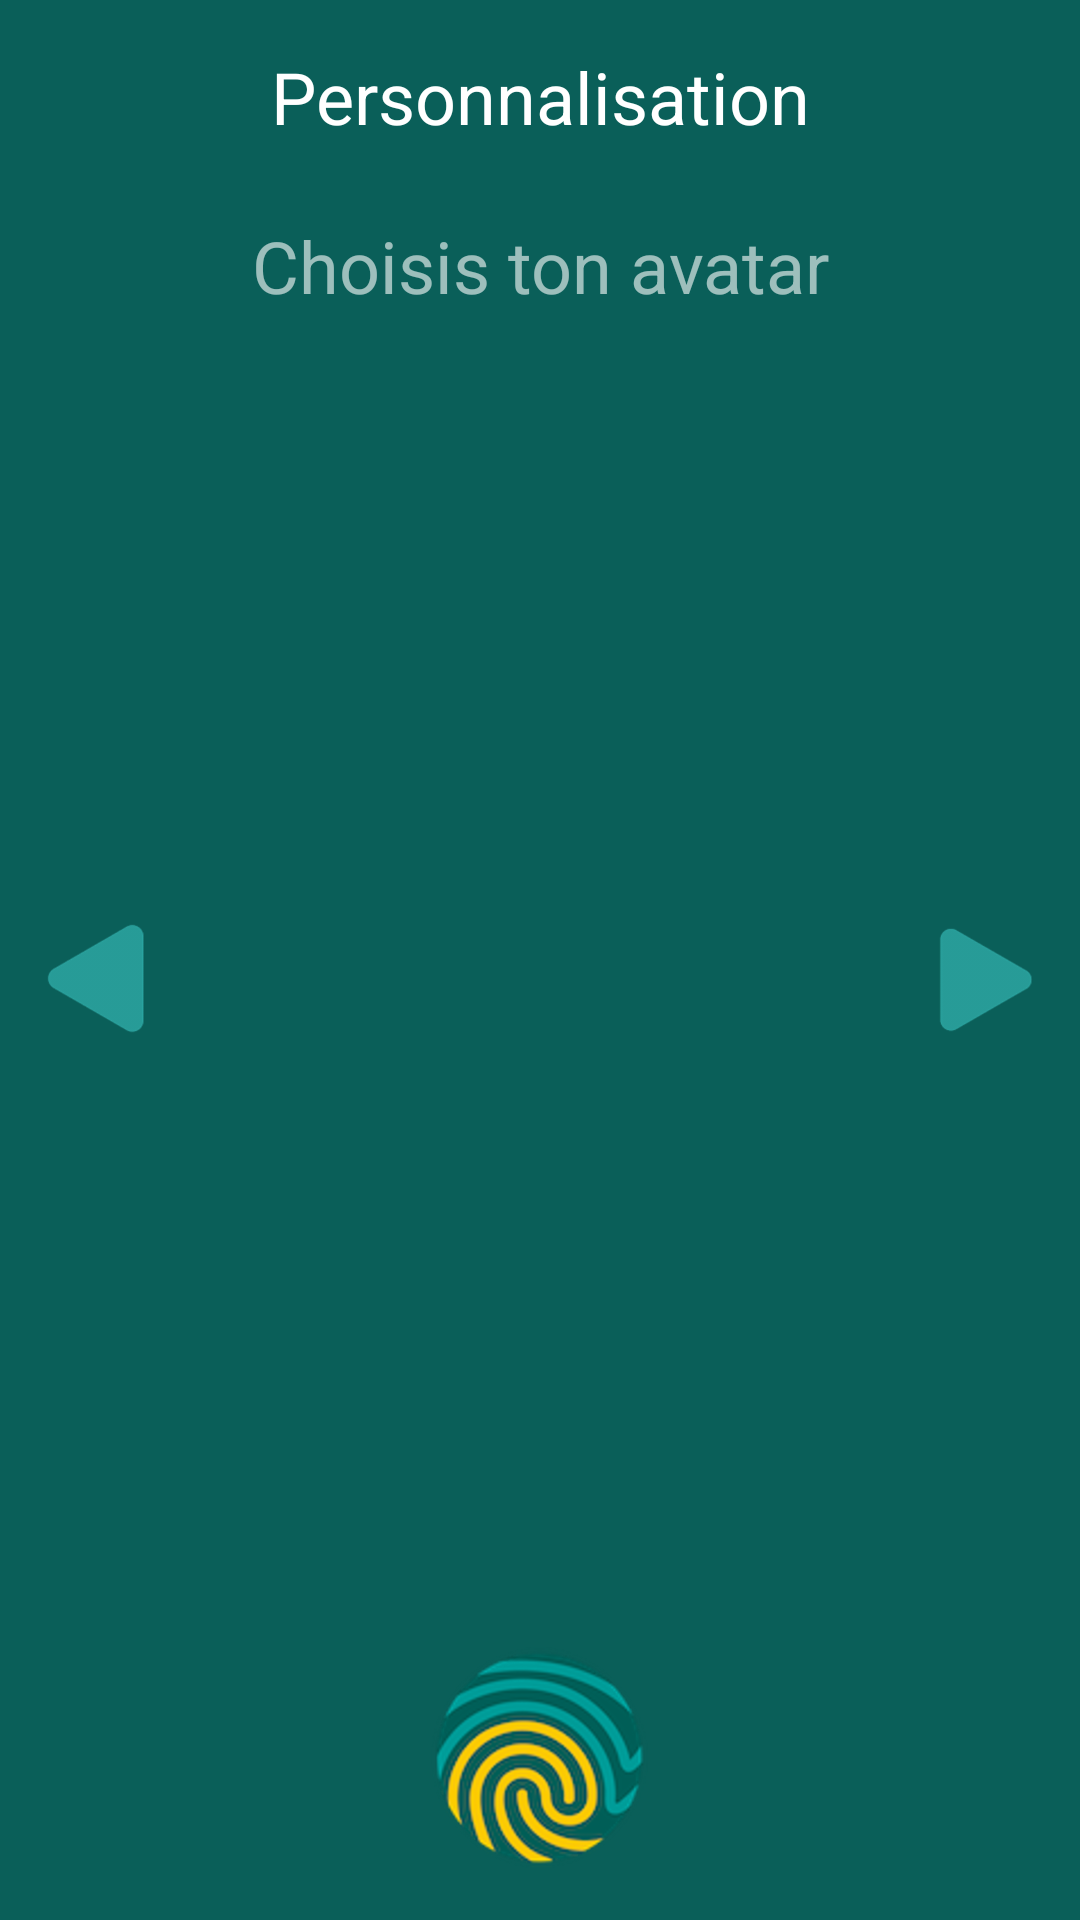

Icons on this 1080*1920 Android screen, each with its box as (x1, y1, x2, y2):
empreinte: (437, 1660, 642, 1863)
